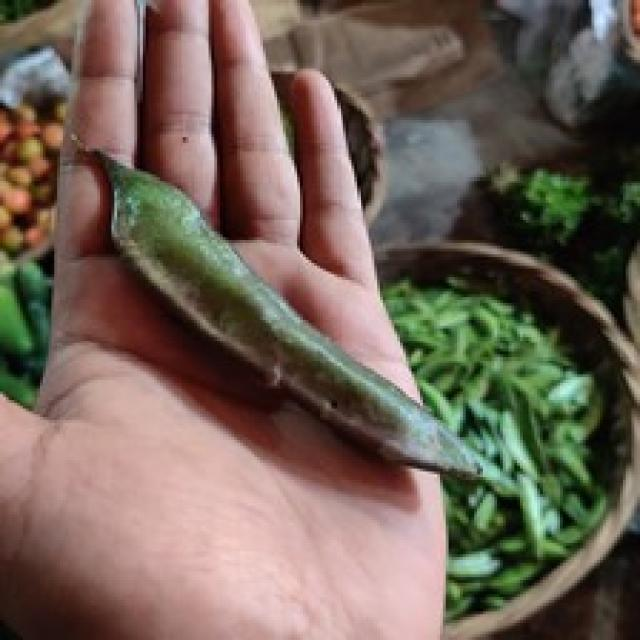Bean: (88, 146, 483, 480), (377, 271, 609, 620)
